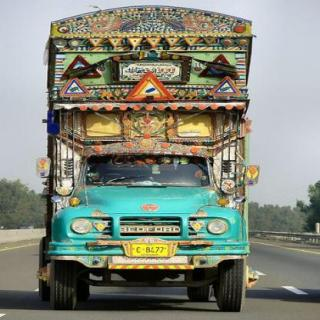Normal_vehicle: (34, 5, 259, 313)
